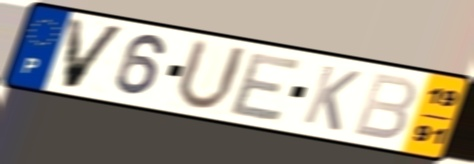6: (113, 33, 168, 98)
B: (349, 70, 420, 143)
E: (225, 50, 306, 123)
K: (299, 62, 364, 135)
U: (171, 35, 250, 113)
V: (60, 15, 130, 92)
